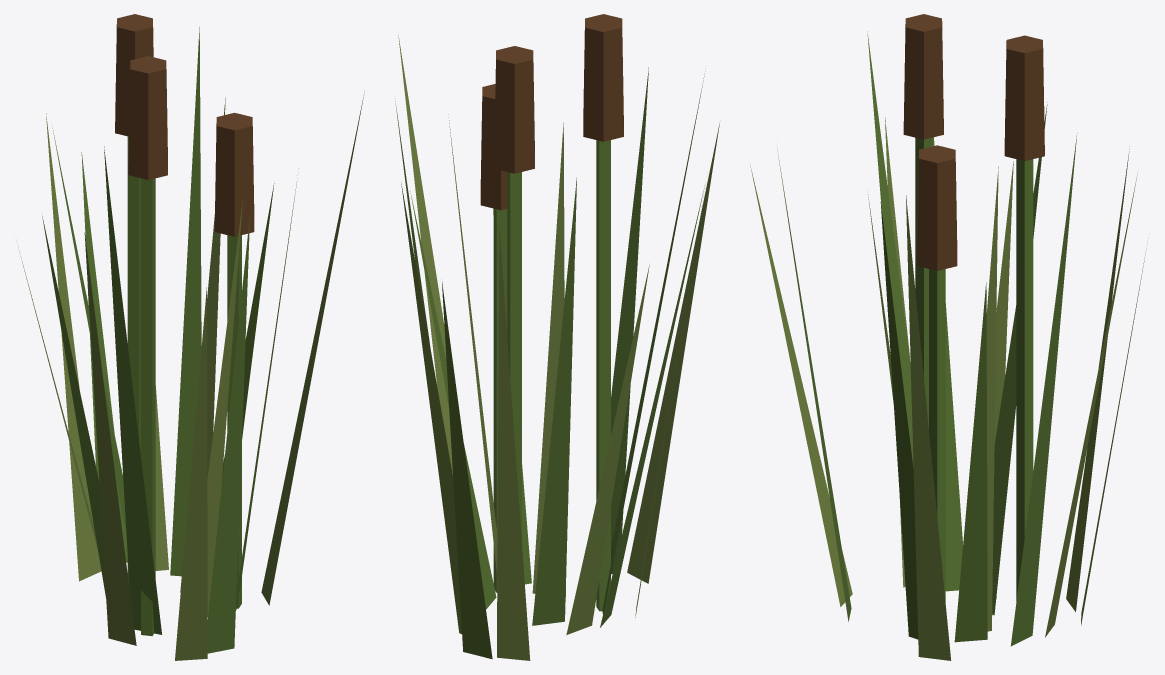
The model's file is reeds.glb.
3 views of the same model, side by side, from view 1: azimuth 30°, elevation 25°; view 2: azimuth 150°, elevation 25°; view 3: azimuth 270°, elevation 25° (orthographic). The views are drawn at different scales.
Visible parts, largest first — view 1: reeds2; view 2: reeds2; view 3: reeds2.
Part boxes in pixels (x1,y1,x2,y2): reeds2: (18, 14, 364, 660); reeds2: (395, 14, 719, 660); reeds2: (750, 14, 1147, 660).
Size of the model in its own units: 0.8644 by 1.51 by 0.9514.
